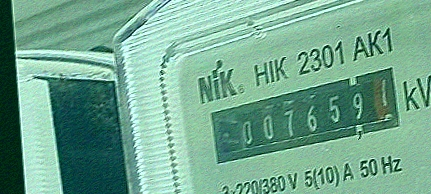0: (239, 117, 254, 145), (260, 113, 275, 141)
1: (376, 78, 390, 110)
5: (325, 93, 342, 126)
6: (303, 102, 318, 134)
7: (280, 106, 297, 138)
9: (348, 89, 366, 123)
screen: (193, 60, 420, 170)
